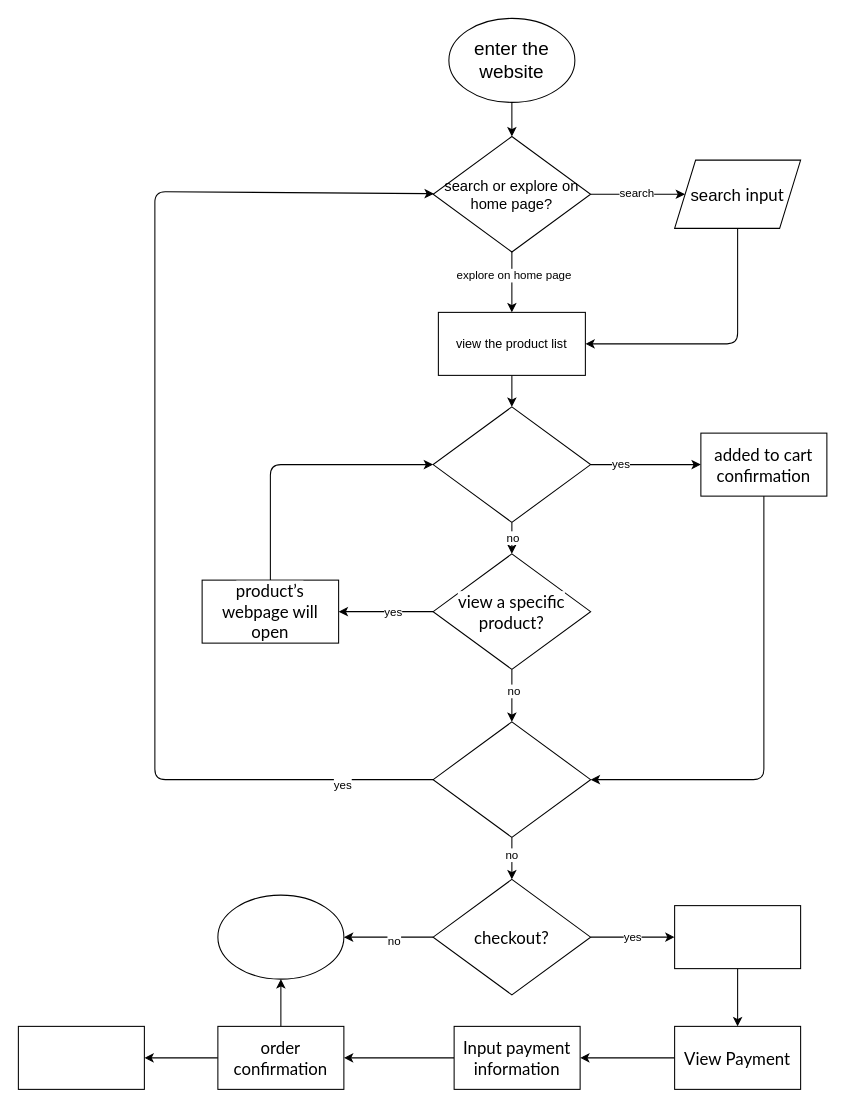
Some shapes in this 845 by 1108 pixel diagram are drawn without their labels. Here are the shapes that lost their labels. From the top down, the box of each, then its label:
(432, 406, 591, 522): add a specific product to cart?
(432, 721, 591, 837): continue shooping?
(217, 894, 344, 979): leave the website
(674, 905, 801, 969): View Cart
(17, 1025, 144, 1089): Send order confirmation email
